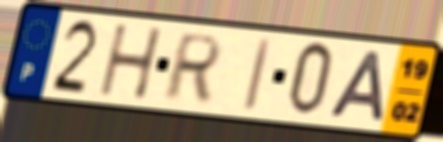0: (285, 39, 338, 123)
2: (50, 18, 100, 96)
A: (324, 49, 387, 125)
H: (97, 23, 166, 102)
I: (240, 35, 274, 115)
R: (158, 31, 226, 104)
